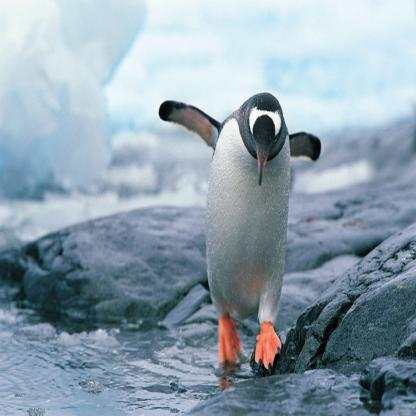Penguin: (151, 84, 334, 378)
